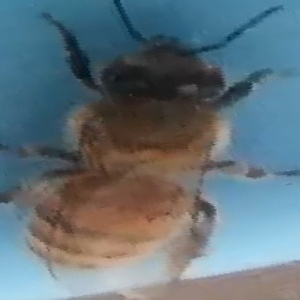bee: (22, 3, 287, 293)
